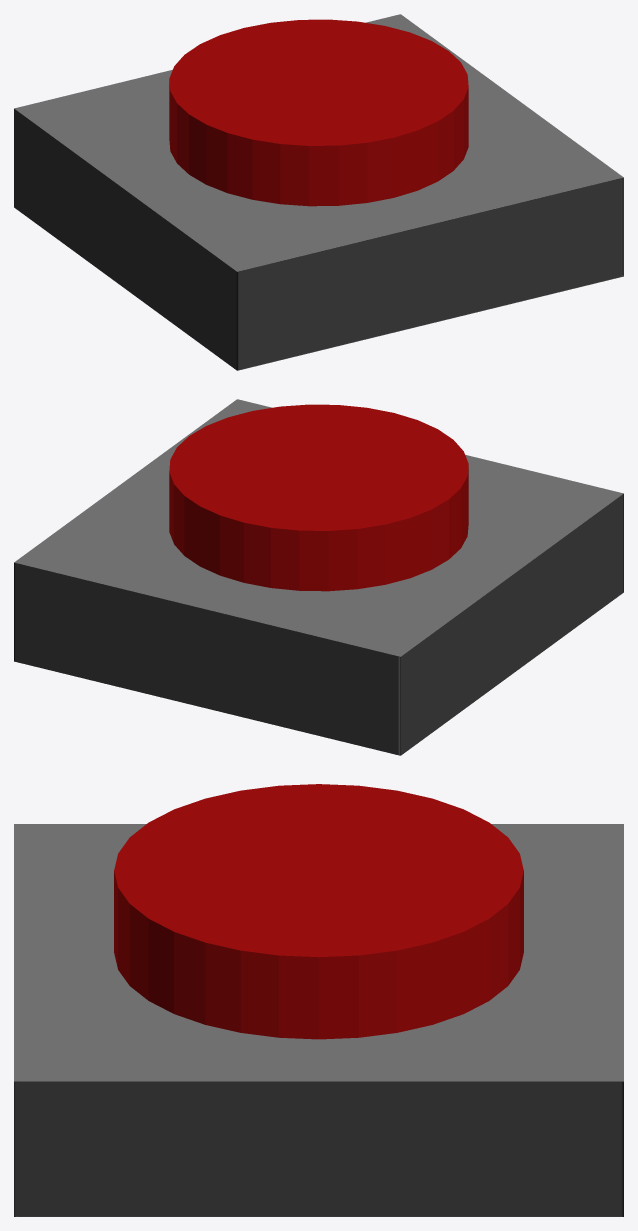
File: RedButton.fbx
3 renders of one model, top to bottom at view 1: azimuth 30°, elevation 25°; view 2: azimuth 150°, elevation 25°; view 3: azimuth 270°, elevation 25°, orthographic. The views are drawn at different scales.
Visible parts, largest first — view 1: 立方体; view 2: 立方体; view 3: 立方体.
Boxes of the visible parts, <box> form: 立方体: <box>14,14,623,370</box>; 立方体: <box>14,399,623,755</box>; 立方体: <box>14,784,623,1216</box>.
Size of the model in its own units: 200 by 78.66 by 200.
